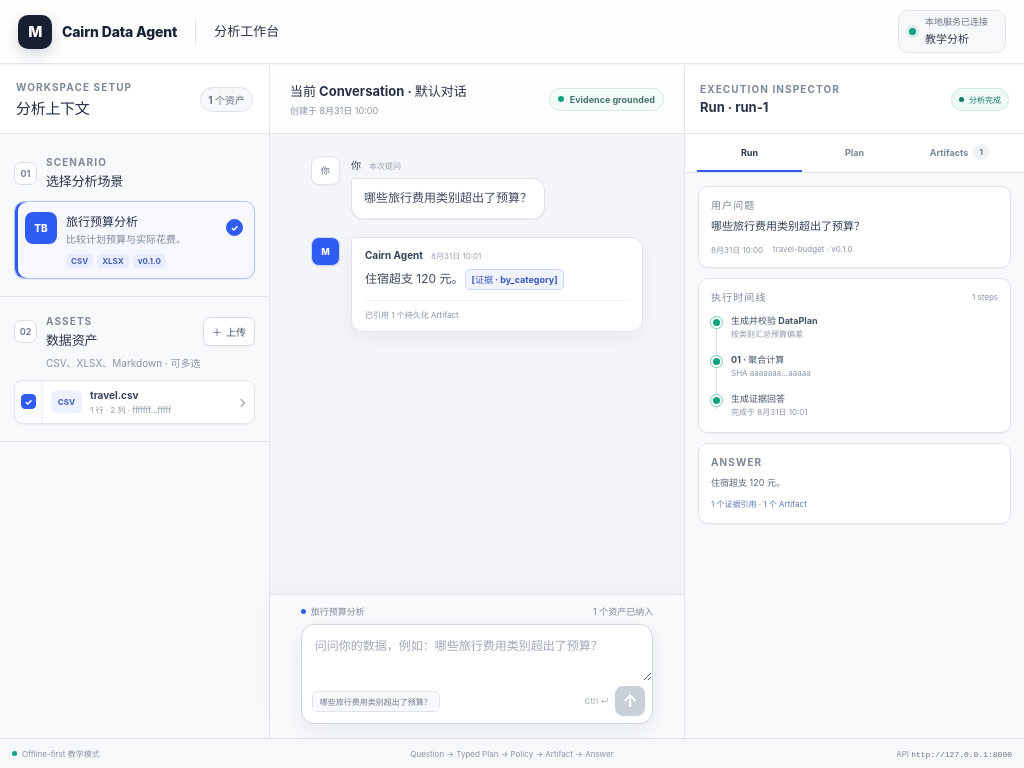
Test: App workbench › clears a previous Run as soon as a new ask starts and keeps it cleared on failure
Expected: the text "住宿超支 120 元。" below "Cairn Agent" is shown, x1=365 y1=271 x2=464 y2=286
Click the button "哪些旅行费用类别超出了预算？": (376, 701) x1=312 y1=690 x2=440 y2=712
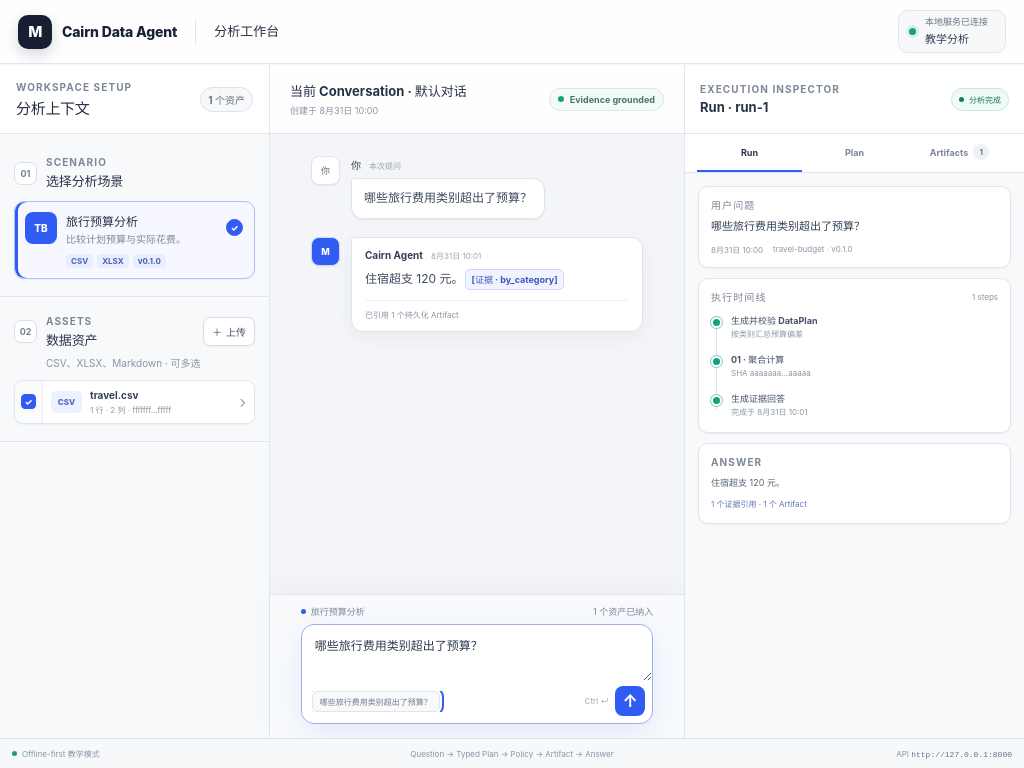
Click the button named "开始分析": (630, 701) x1=615 y1=686 x2=645 y2=716
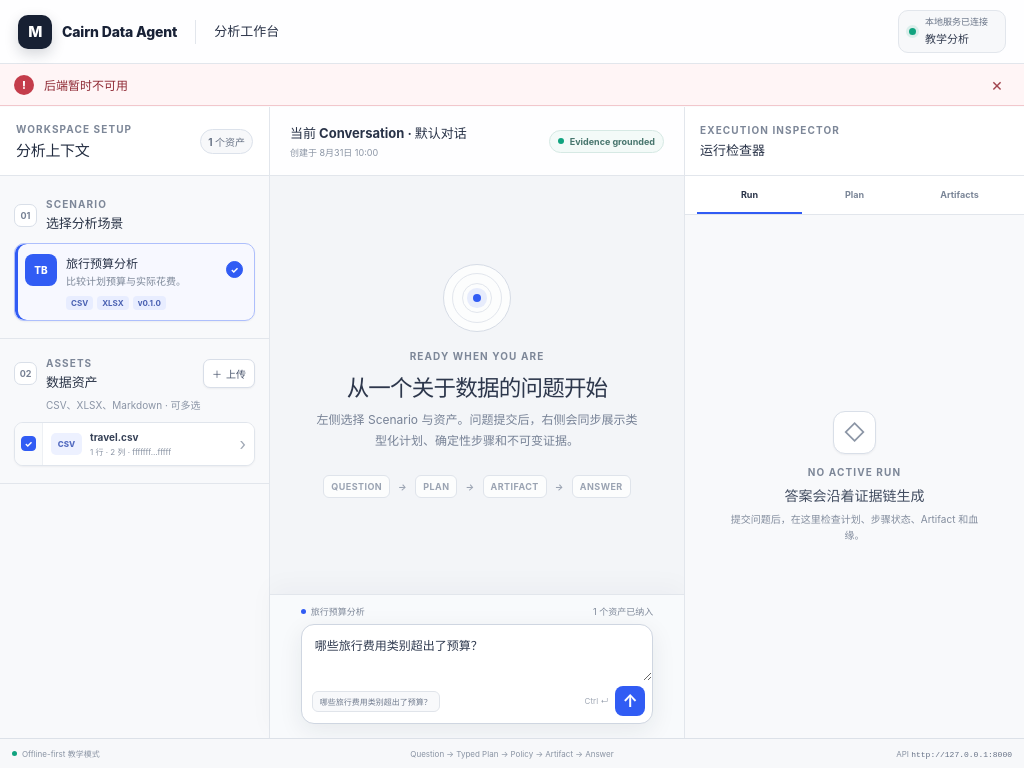
Expected: the message shows "后端暂时不可用", x1=44 y1=78 x2=128 y2=93
Expected: the text "住宿超支 120 元" is gone
Expected: the heading "答案会沿着证据链生成" is shown, x1=784 y1=484 x2=924 y2=504
